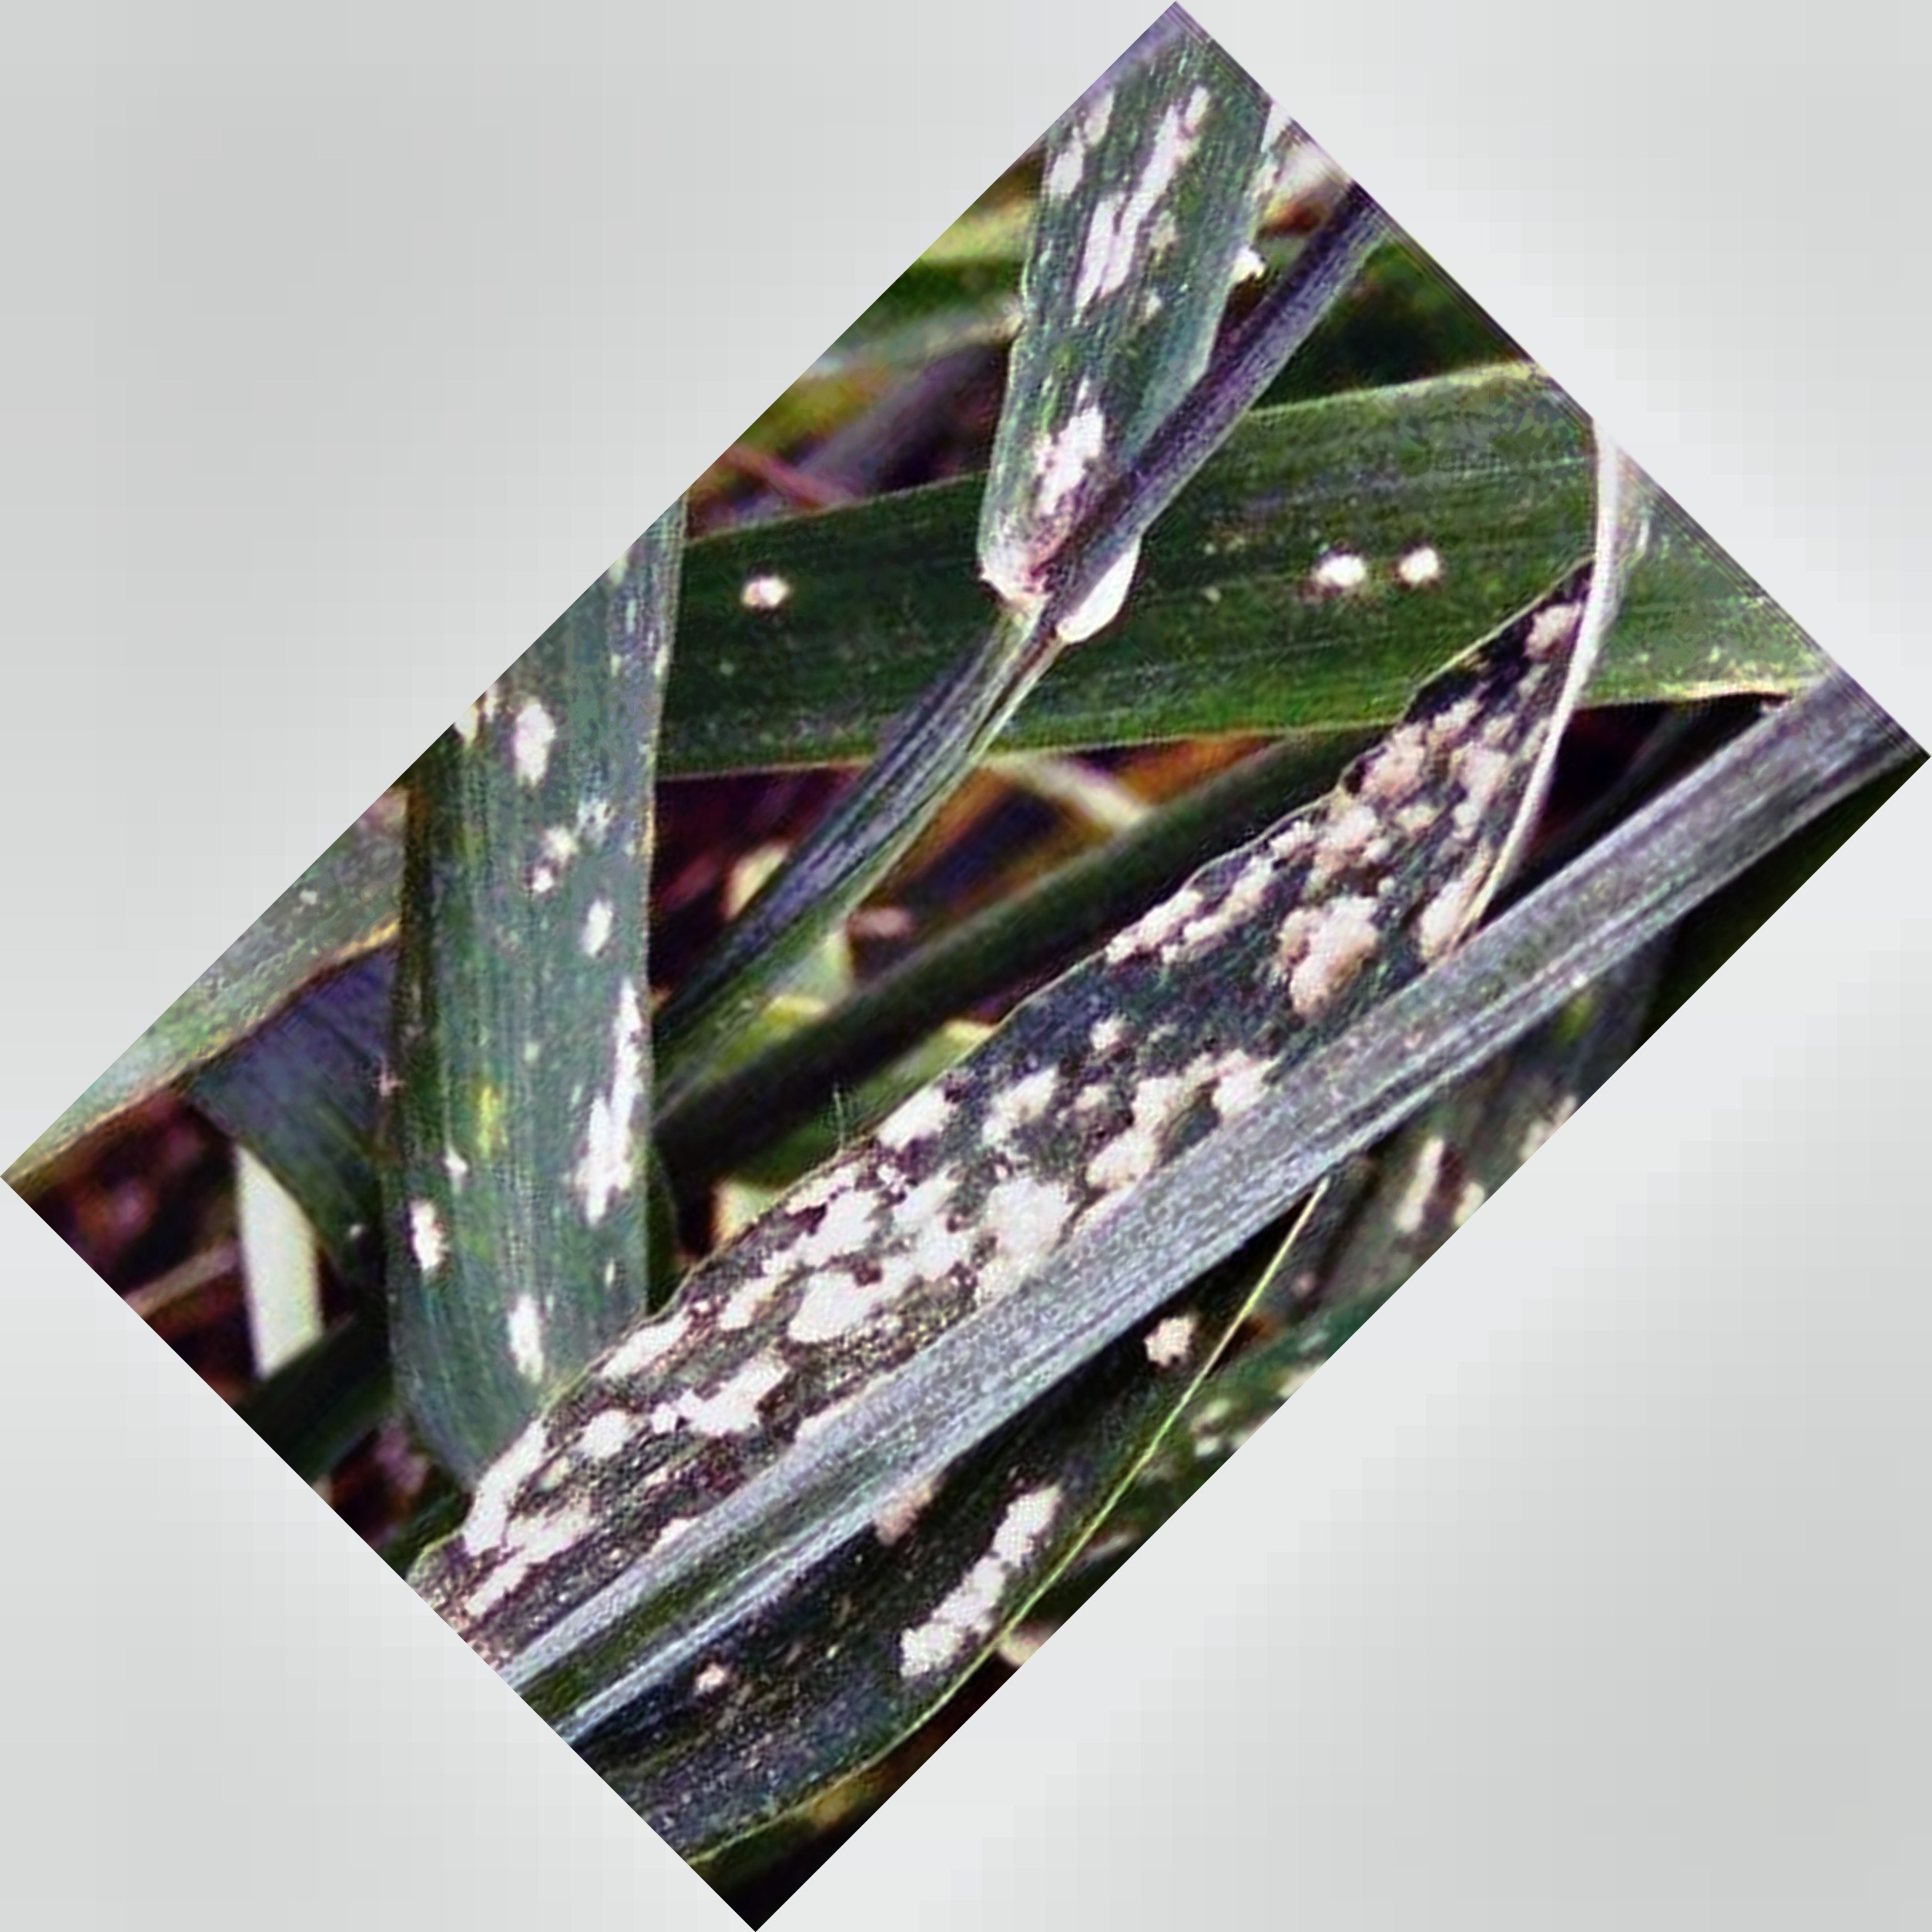Powdery Mildew: (495, 734, 1484, 1553)
